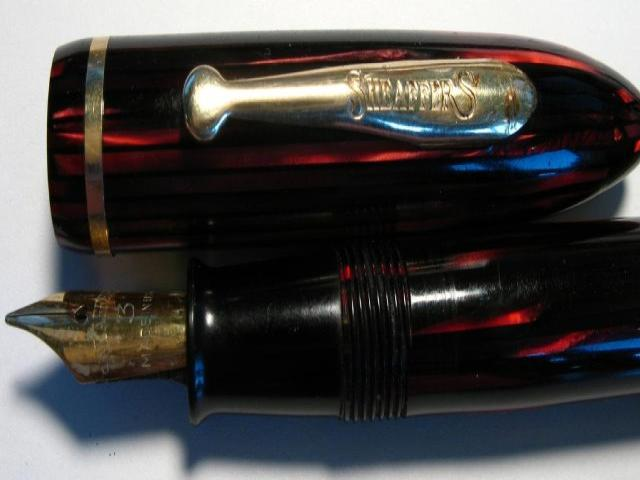PEN: (0, 243, 469, 475)
